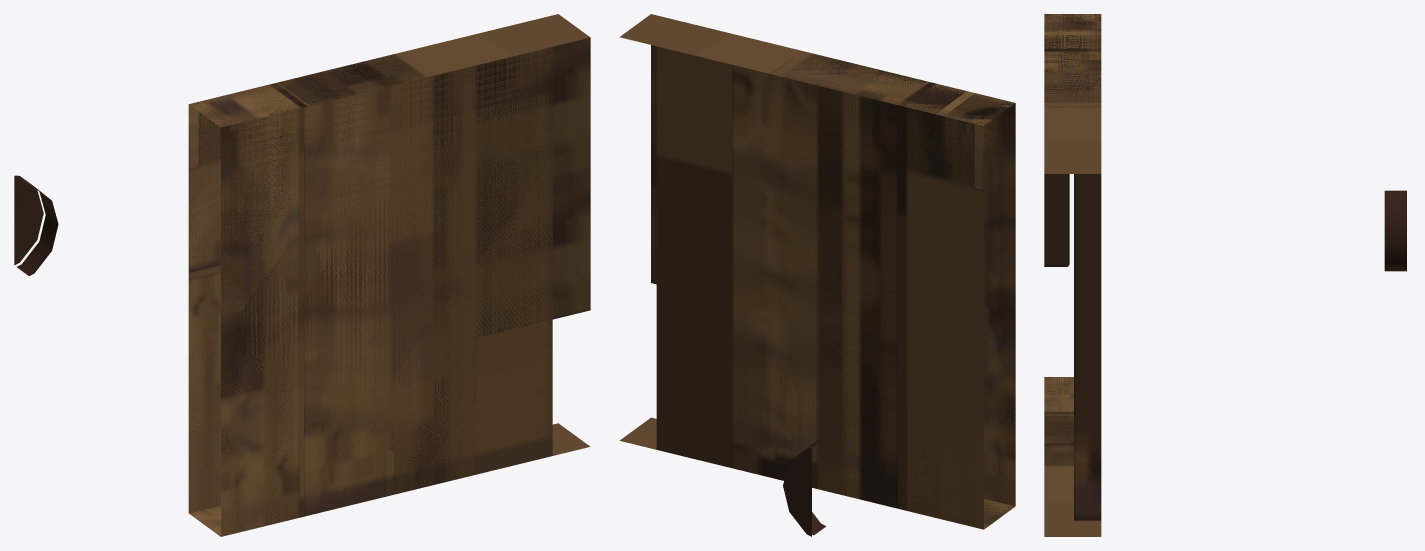
File: section-3.obj
3 views of the same model, side by side, from view 1: azimuth 30°, elevation 25°; view 2: azimuth 150°, elevation 25°; view 3: azimuth 270°, elevation 25° (orthographic). The views are drawn at different scales.
Size of the model in its own units: 0.9239 by 0.9774 by 0.8941.
